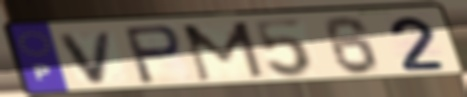2: (384, 12, 454, 75)
5: (252, 17, 316, 80)
6: (323, 15, 381, 78)
M: (179, 20, 269, 84)
P: (120, 23, 186, 86)
V: (55, 29, 117, 86)
